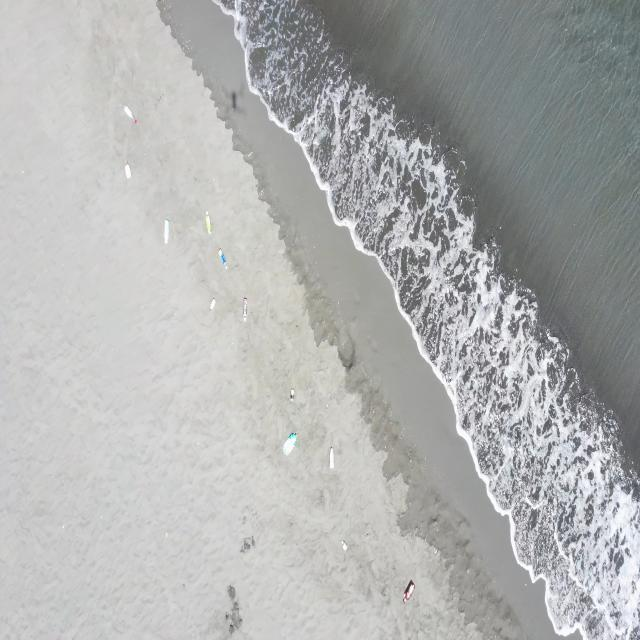plastic-bottle: (282, 431, 298, 455), (122, 103, 138, 124), (403, 579, 416, 603), (217, 247, 229, 270), (162, 219, 172, 246), (328, 445, 336, 470), (124, 158, 132, 180), (205, 210, 212, 235), (242, 296, 248, 323), (208, 297, 217, 311), (289, 386, 295, 405), (341, 538, 348, 552)
